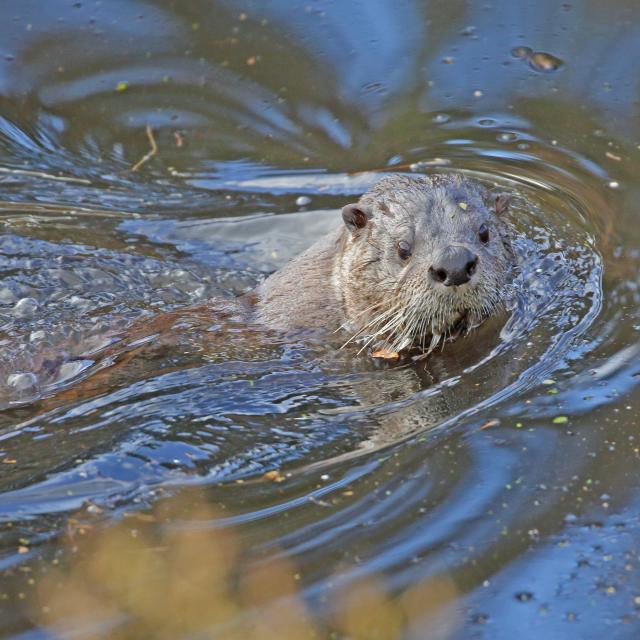otter: (277, 176, 508, 353)
